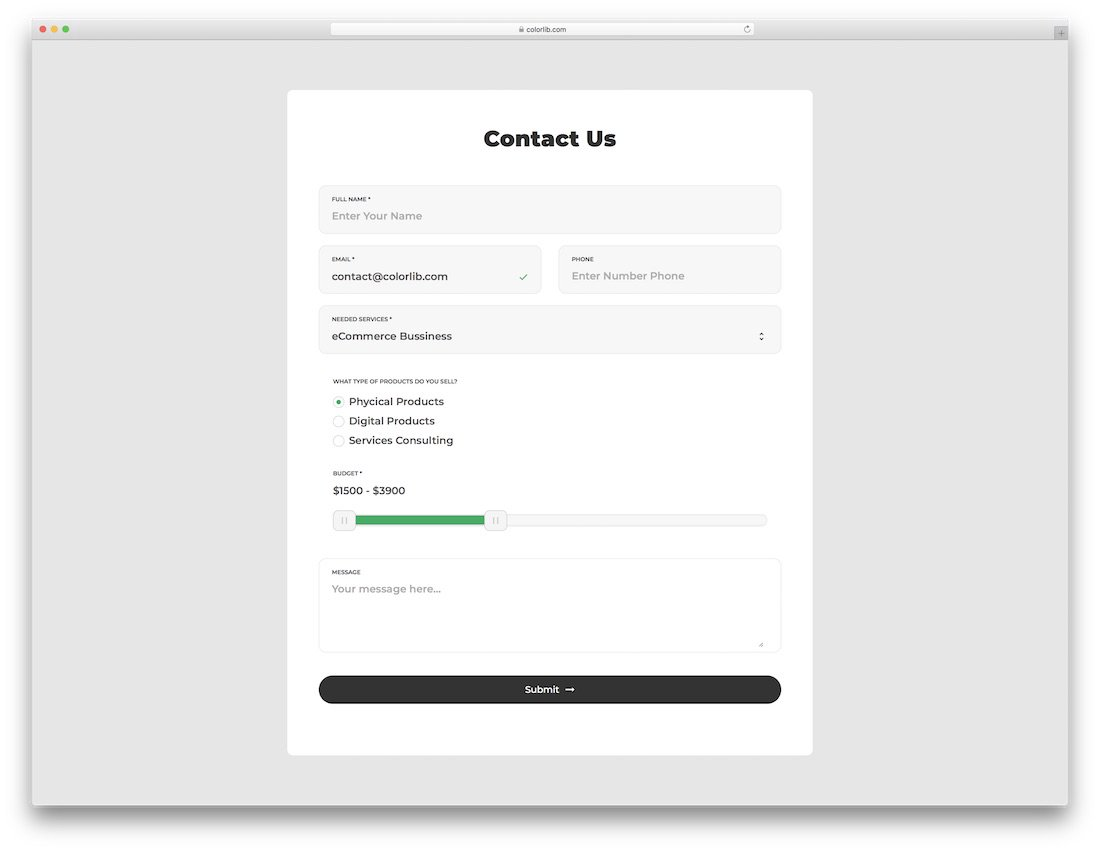button: (312, 672, 788, 720)
dropdown: (313, 306, 791, 366)
textbox: (311, 244, 547, 299)
